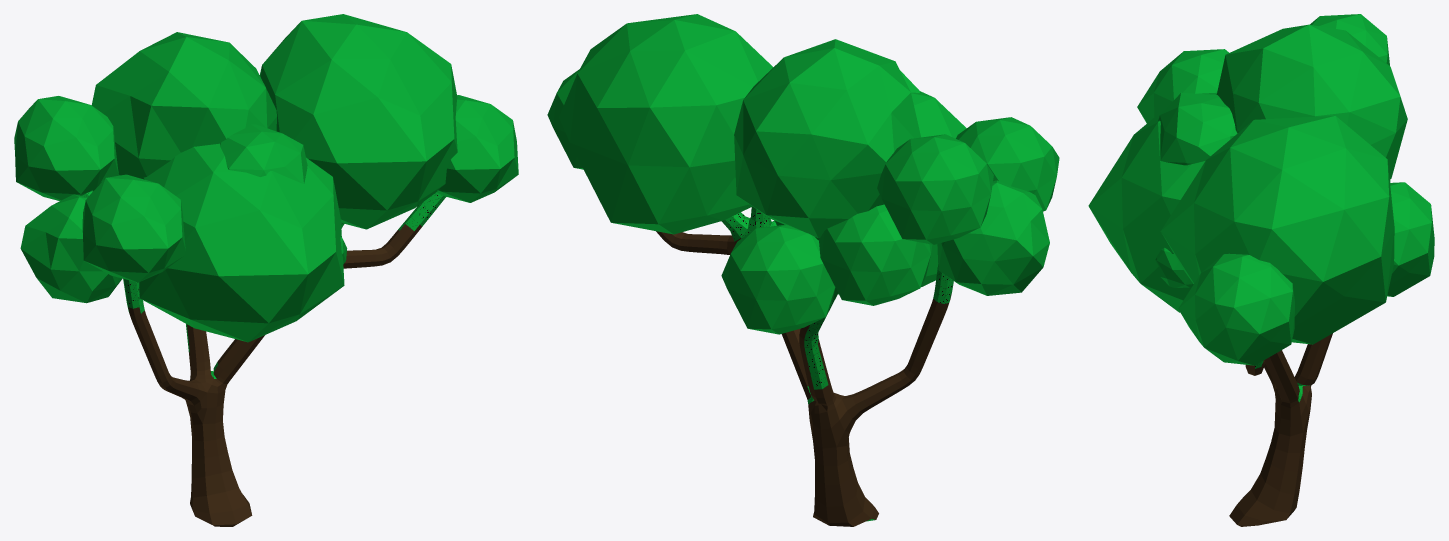
The model's file is tree.fbx.
3 views of the same model, side by side, from view 1: azimuth 30°, elevation 25°; view 2: azimuth 150°, elevation 25°; view 3: azimuth 270°, elevation 25° (orthographic). The views are drawn at different scales.
Parts seen in each view (by area): view 1: tree; view 2: tree; view 3: tree.
Boxes of the visible parts, bbox=[...] form: tree: bbox=[14, 14, 518, 526]; tree: bbox=[547, 14, 1059, 526]; tree: bbox=[1088, 14, 1434, 526].
Bounding box in the file's own units: 992 × 943 × 603.
